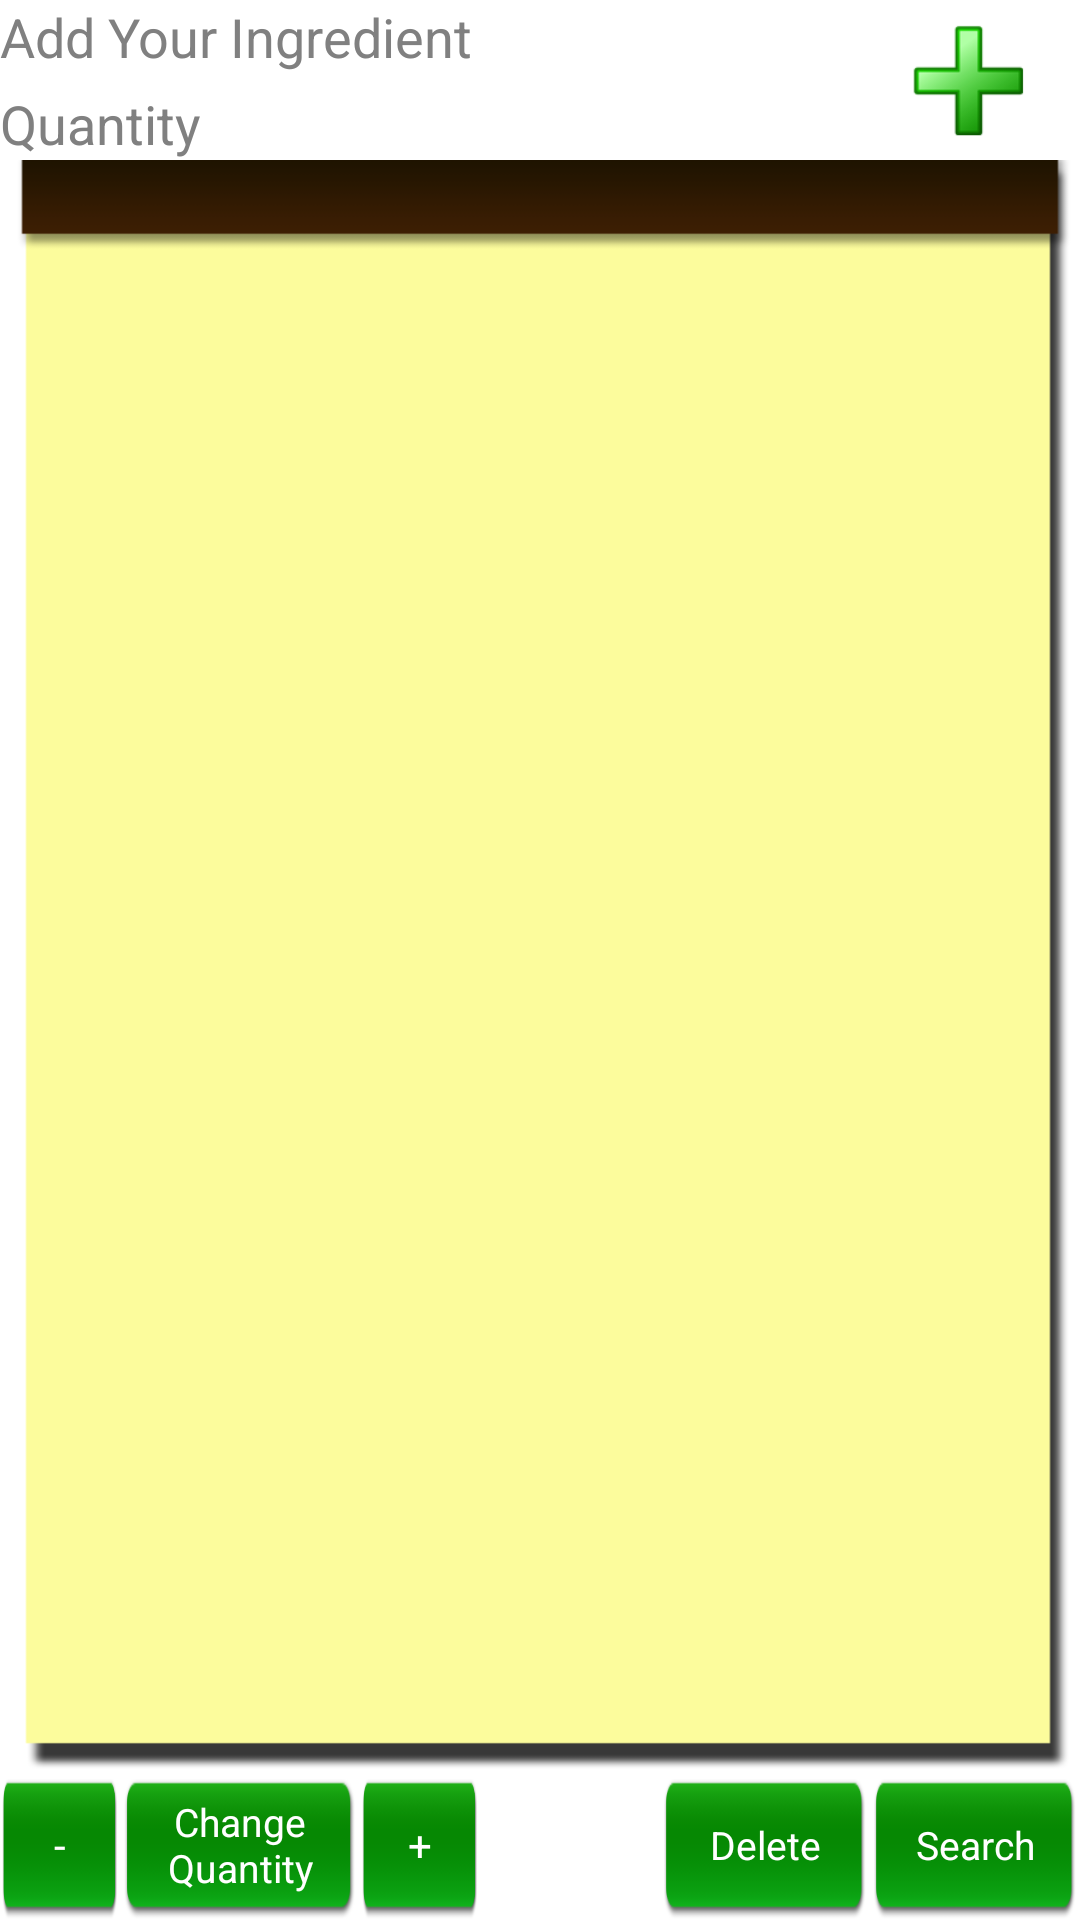

Point at icon controls on the screen. Image size 1080*1920, points as (x=x, y=y).
addbutton: (x=968, y=81)
